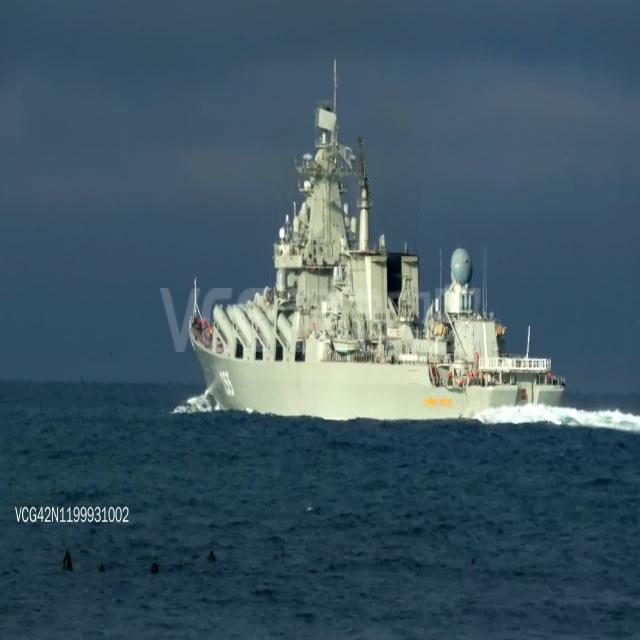navalvessels: (183, 81, 561, 424)
